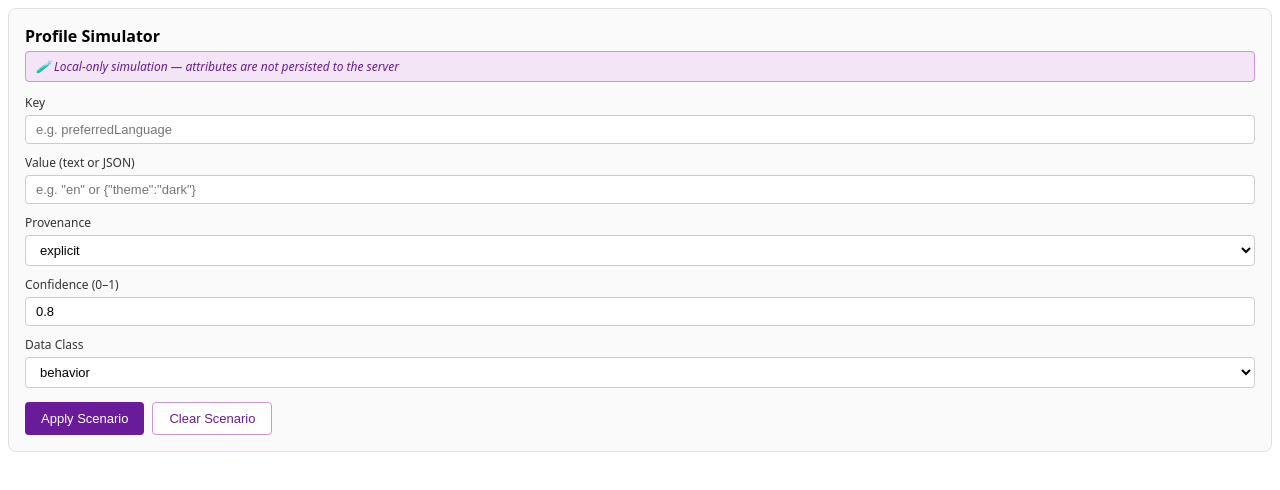
ProfileSimulator › validation: unrecognized dataClass (Req 11.6) › shows field-level error for unrecognized dataClass value
Note: Simulate setting a value that isn't in the options (edge case - programmatic override)
Select "invalidClass" in the dropdown with test id "ps-dataclass-select" at x=640, y=372, box [25, 357, 1255, 388]
Click the button with test id "ps-apply-button" at x=85, y=418, box [25, 402, 144, 435]
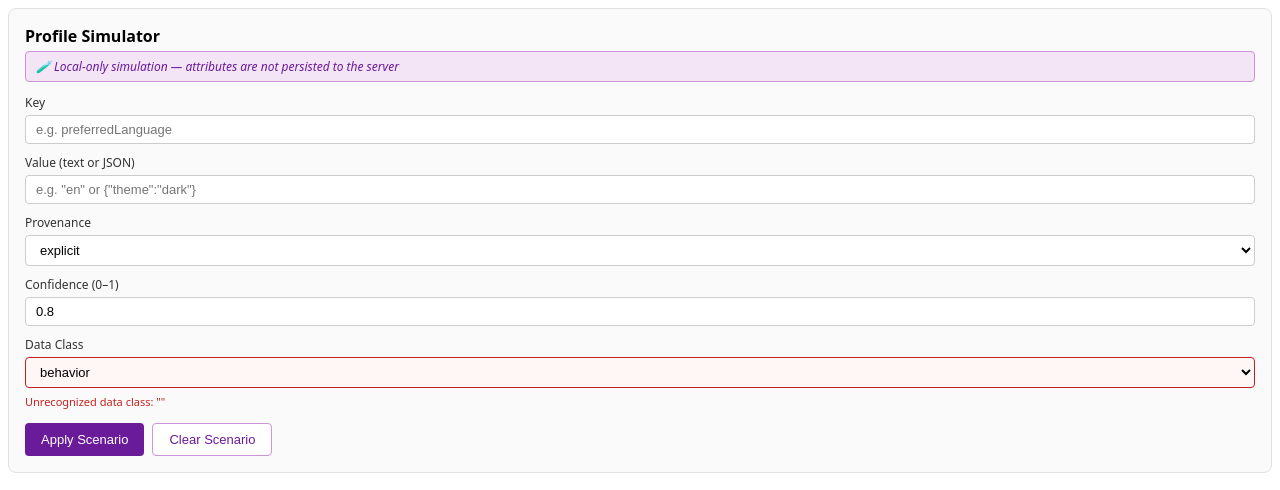
Check: the message with test id "ps-dataclass-error" shows "Unrecognized data class", box [25, 394, 165, 409]
